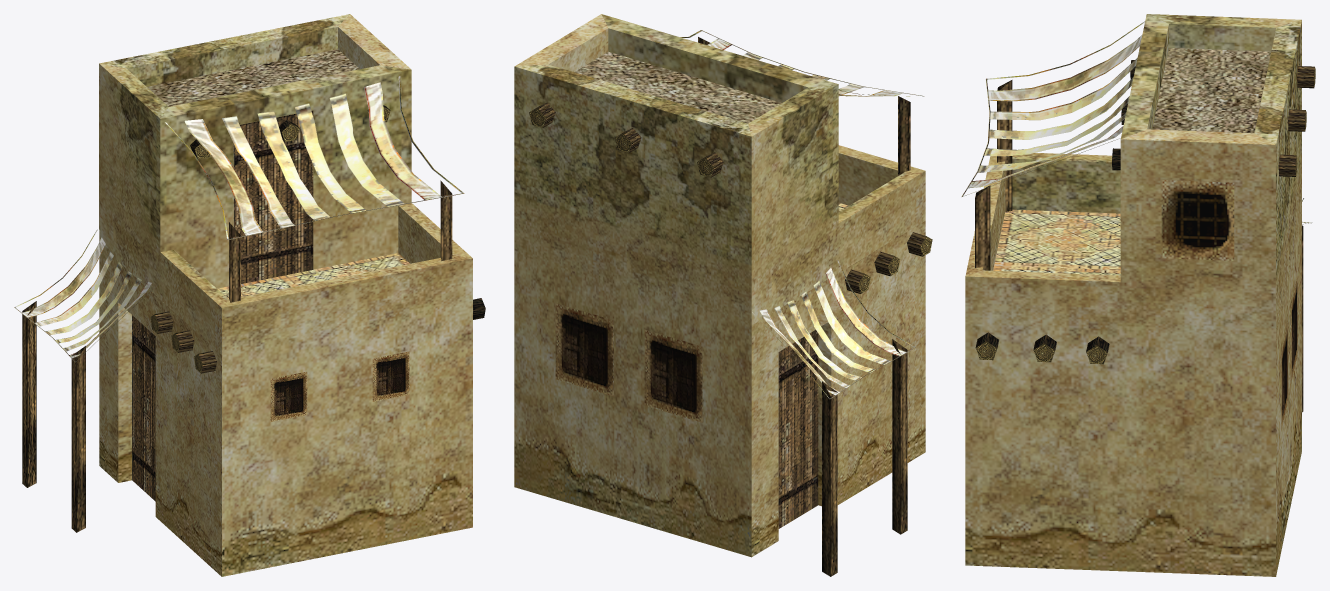
The model's file is pers_house_c.dae.
The picture shows the model from 3 angles, left to right: view 1: azimuth 30°, elevation 25°; view 2: azimuth 150°, elevation 25°; view 3: azimuth 270°, elevation 25°; orthographic projection. The views are drawn at different scales.
Visible parts, largest first — view 1: Persian_House_C-Pivot; view 2: Persian_House_C-Pivot; view 3: Persian_House_C-Pivot.
Boxes of the visible parts, bbox=[...] form: Persian_House_C-Pivot: bbox=[14, 14, 485, 576]; Persian_House_C-Pivot: bbox=[514, 14, 932, 576]; Persian_House_C-Pivot: bbox=[961, 14, 1315, 576].
Bounding box in the file's own units: 9.42 × 8.04 × 10.82.
